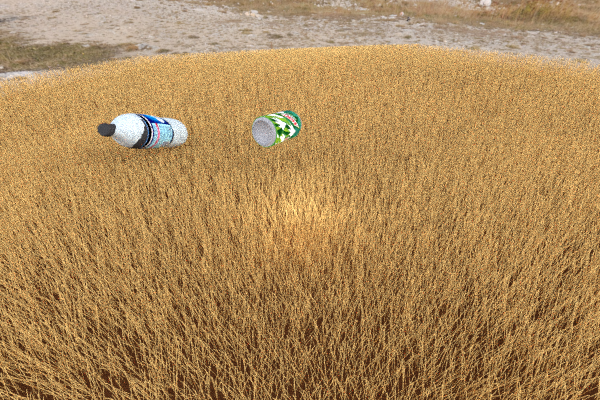Plastic Bottle: (93, 115, 186, 151), (260, 82, 298, 113)
